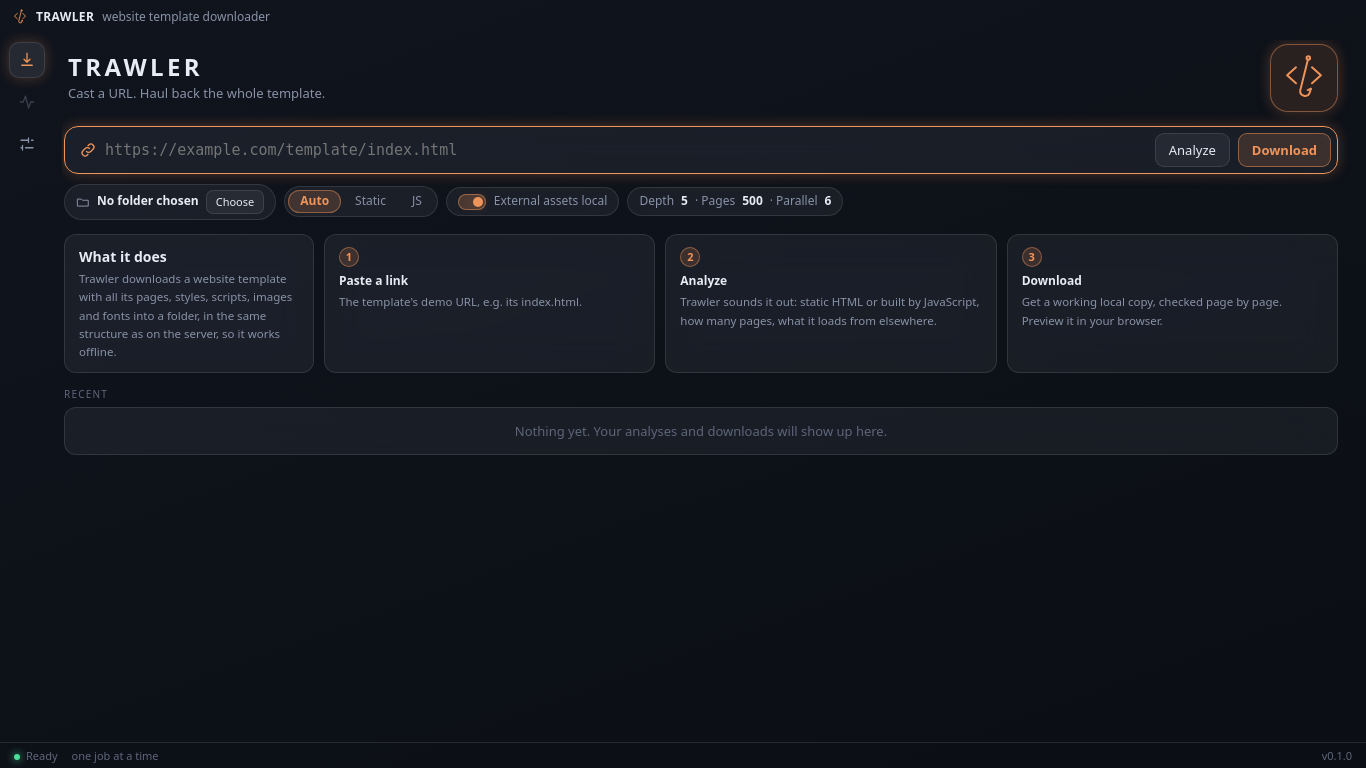
Test case: Start screen › starts an analysis with the form values
Step 1. Type "example.com/template/" into the field named "Template URL" → (626, 150), box [105, 133, 1147, 167]
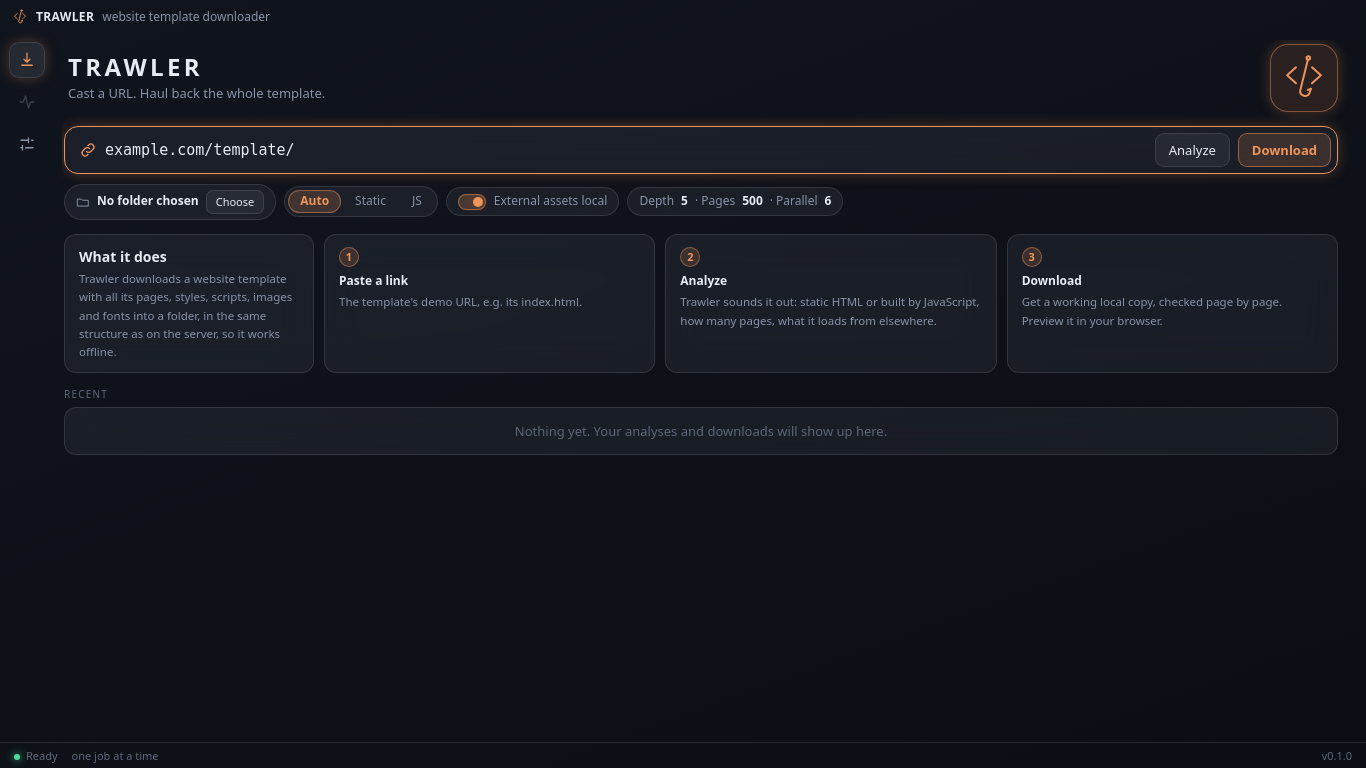
Step 2. Click the radio button labelled "JS" → (417, 202), box [400, 190, 434, 213]
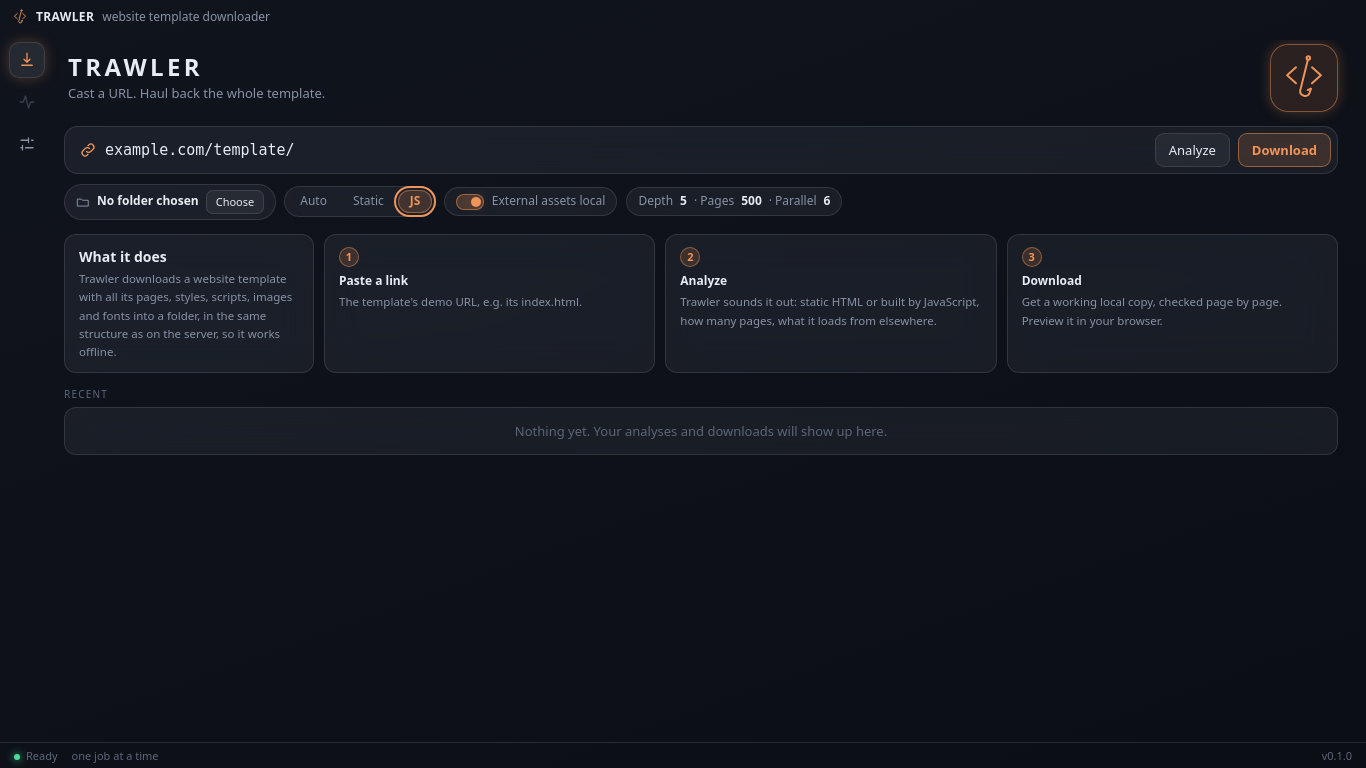
Step 3. Click the button "Analyze" → (1192, 150), box [1155, 133, 1230, 167]
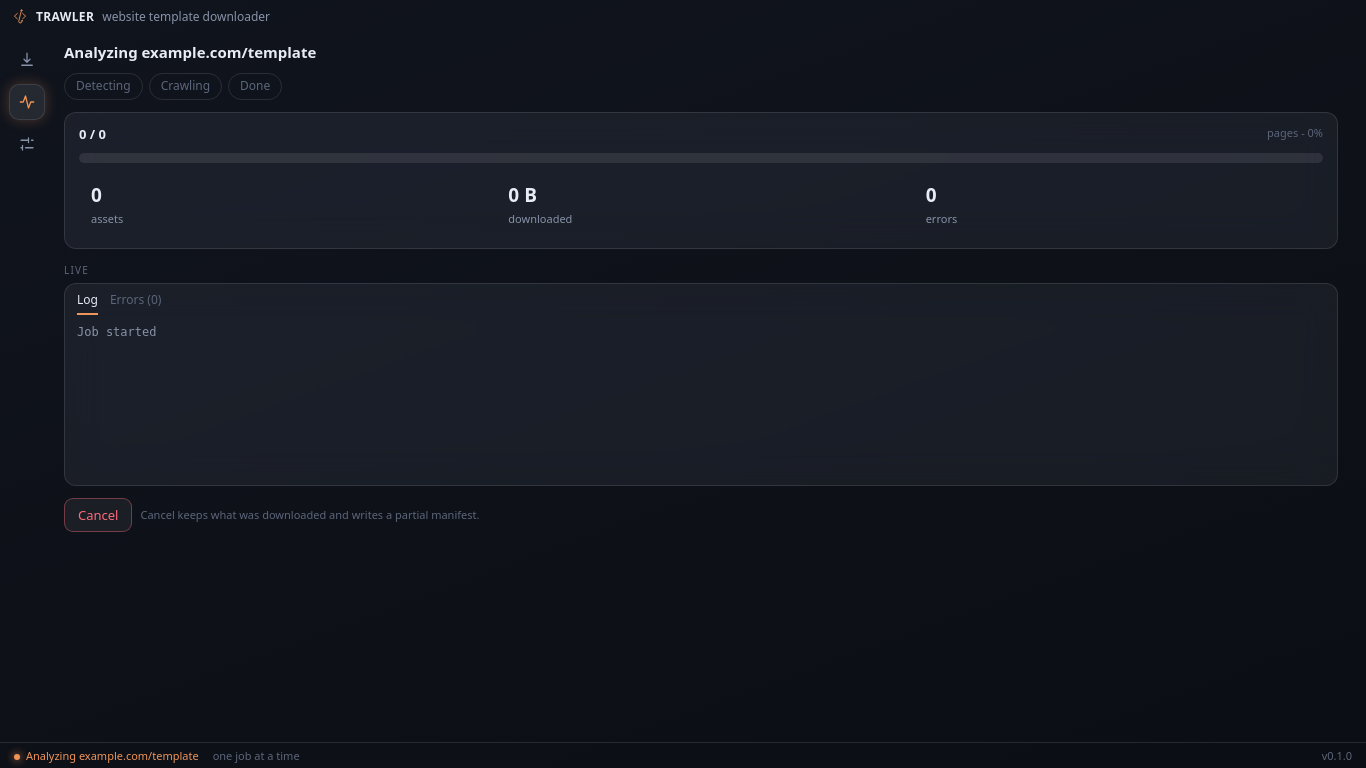
Expected: the button "Cancel" is shown, [64, 498, 132, 532]
